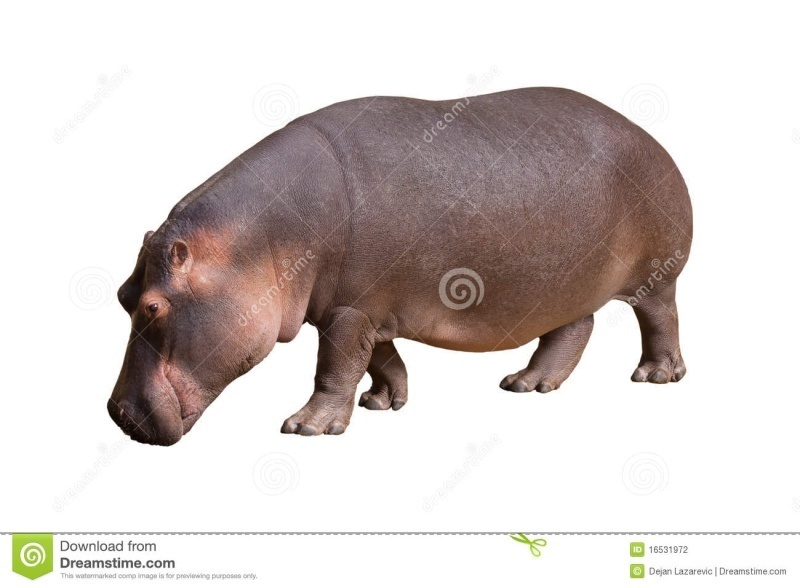hipopotamo: (97, 70, 716, 464)
